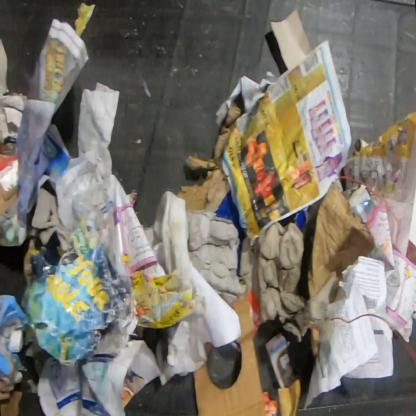cardboard: (19, 237, 134, 367), (192, 292, 267, 415), (307, 182, 376, 304), (176, 100, 242, 213), (129, 270, 205, 330), (0, 294, 30, 400), (30, 186, 74, 253), (270, 9, 313, 71), (0, 154, 20, 217), (276, 377, 302, 416), (0, 390, 25, 415), (309, 327, 321, 357)
